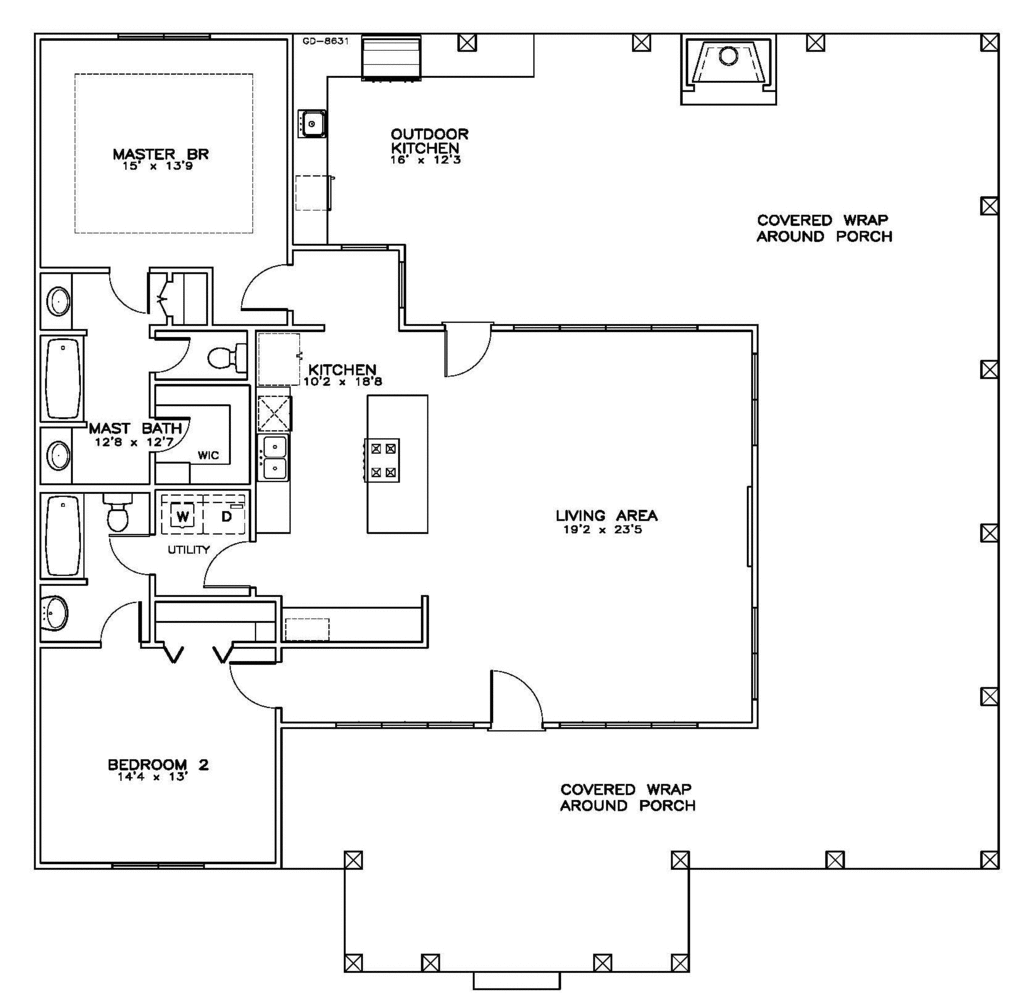door: (492, 670, 548, 728), (240, 264, 305, 313), (443, 319, 494, 375), (234, 662, 286, 714), (203, 539, 251, 591), (145, 335, 192, 381), (100, 599, 145, 645), (109, 268, 151, 310), (108, 533, 149, 576), (143, 414, 189, 450)
kitchen_bar: (362, 394, 428, 534)
large_sink: (206, 334, 251, 376), (103, 494, 138, 536)
small_sink: (40, 434, 82, 487), (37, 587, 75, 645), (44, 279, 76, 321)
tub: (38, 330, 91, 424), (43, 493, 83, 582)
twin_sink: (254, 430, 289, 485)
window: (517, 322, 695, 333), (112, 857, 203, 873), (118, 30, 209, 45), (749, 357, 762, 447)
